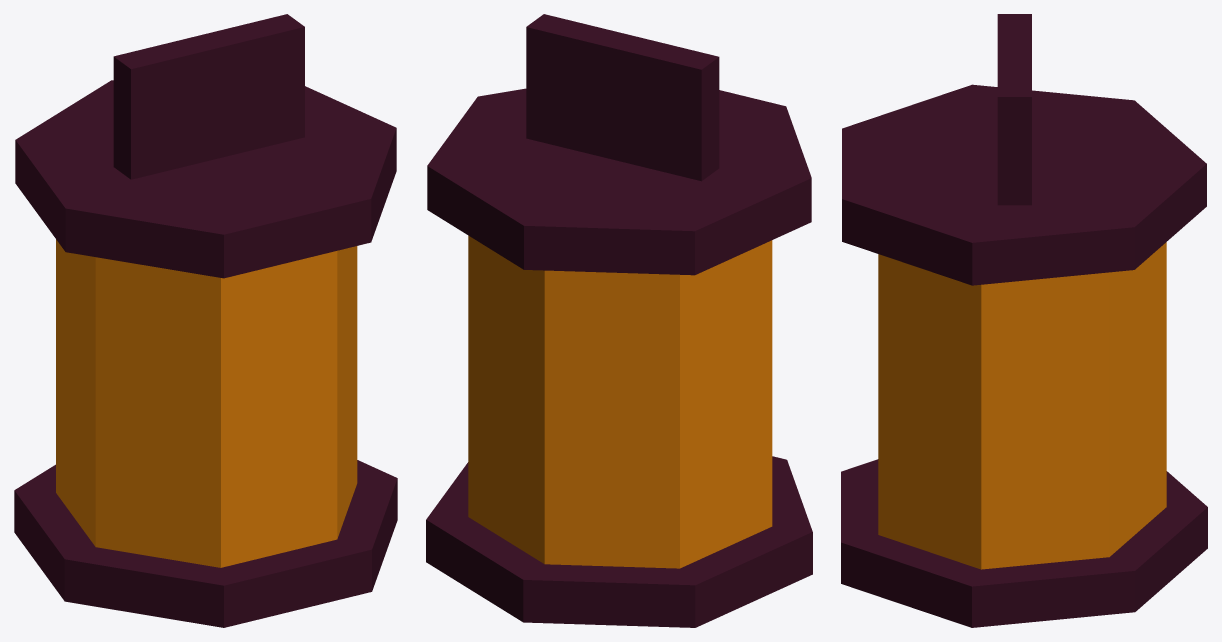
File: Lantern.glb
3 renders of one model, left to right at view 1: azimuth 30°, elevation 25°; view 2: azimuth 150°, elevation 25°; view 3: azimuth 270°, elevation 25°, orthographic. The views are drawn at different scales.
Visible parts, largest first — view 1: Cube; view 2: Cube; view 3: Cube.
Boxes of the visible parts, x1=… form: Cube: x1=14, y1=14, x2=397, y2=627; Cube: x1=426, y1=14, x2=812, y2=627; Cube: x1=841, y1=14, x2=1207, y2=627.
Bounding box in the file's own units: 1.95 × 2.82 × 1.9.
